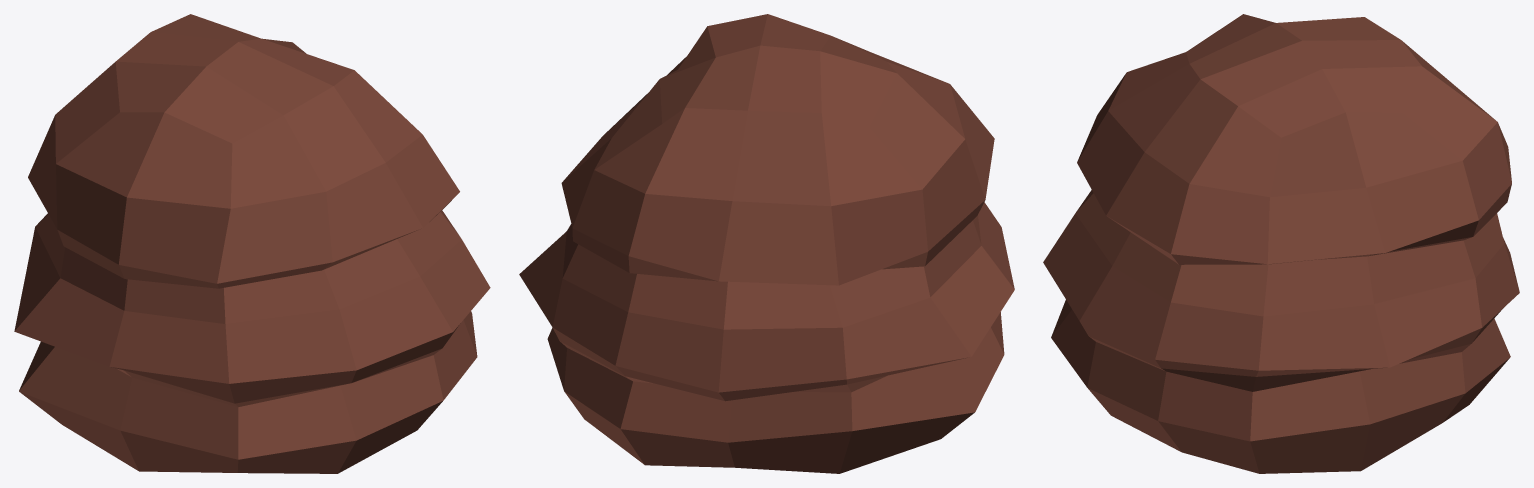
File: shrub-B2wtLd1P.glb
3 views of the same model, side by side, from view 1: azimuth 30°, elevation 25°; view 2: azimuth 150°, elevation 25°; view 3: azimuth 270°, elevation 25° (orthographic). The views are drawn at different scales.
Visible parts, largest first — view 1: Bush_2; view 2: Bush_2; view 3: Bush_2.
Part boxes in pixels (x1=…): Bush_2: x1=14, y1=14, x2=490, y2=473; Bush_2: x1=519, y1=14, x2=1014, y2=473; Bush_2: x1=1043, y1=14, x2=1519, y2=473.
Bounding box in the file's own units: 1.35 × 1.11 × 1.33.
